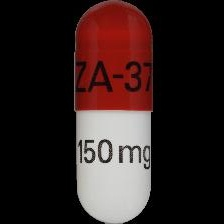60429-123: (0, 0, 224, 224)
